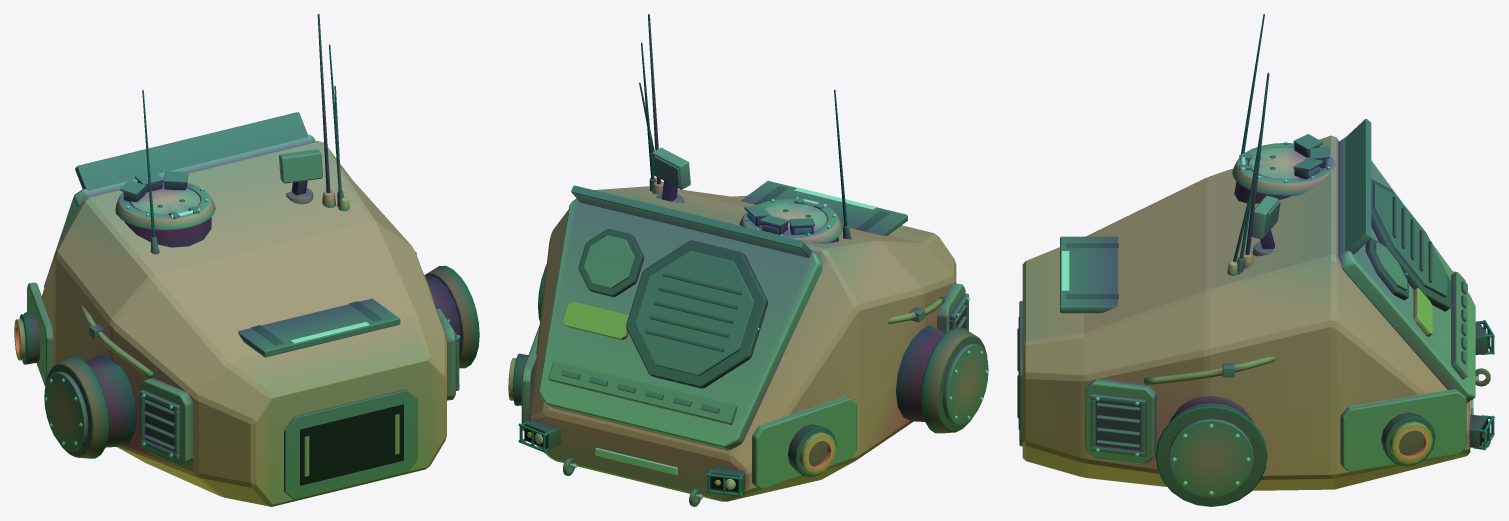
The model's file is core_patriot_mpq65.glb.
3 renders of one model, left to right at view 1: azimuth 30°, elevation 25°; view 2: azimuth 150°, elevation 25°; view 3: azimuth 270°, elevation 25°, orthographic. The views are drawn at different scales.
Visible parts, largest first — view 1: Body__armor_sub, Body__gunmetal, Body__dark, Body__bore, Body__armor, Body__copper; view 2: Body__armor_sub, Body__armor, Body__gunmetal, Body__dark, Body__accent, Body__copper, Body__hazard; view 3: Body__armor_sub, Body__gunmetal, Body__dark, Body__armor, Body__copper, Body__accent.
Part boxes in pixels (bbox=[...]): Body__armor_sub: bbox=[27, 141, 455, 506]; Body__gunmetal: bbox=[24, 112, 459, 499]; Body__dark: bbox=[19, 14, 479, 458]; Body__bore: bbox=[300, 404, 403, 485]; Body__armor: bbox=[44, 134, 315, 287]; Body__copper: bbox=[14, 270, 435, 476]; Body__armor_sub: bbox=[521, 147, 965, 501]; Body__armor: bbox=[539, 198, 827, 450]; Body__gunmetal: bbox=[518, 177, 988, 506]; Body__dark: bbox=[513, 14, 987, 492]; Body__accent: bbox=[563, 301, 628, 340]; Body__copper: bbox=[508, 296, 944, 474]; Body__hazard: bbox=[595, 187, 876, 475]; Body__armor_sub: bbox=[1022, 135, 1470, 490]; Body__gunmetal: bbox=[1019, 119, 1494, 497]; Body__dark: bbox=[1066, 14, 1488, 506]; Body__armor: bbox=[1248, 137, 1475, 402]; Body__copper: bbox=[1017, 328, 1432, 464]; Body__accent: bbox=[1413, 288, 1432, 336].
Bounding box in the file's own units: 2.21 × 2.13 × 2.17.
